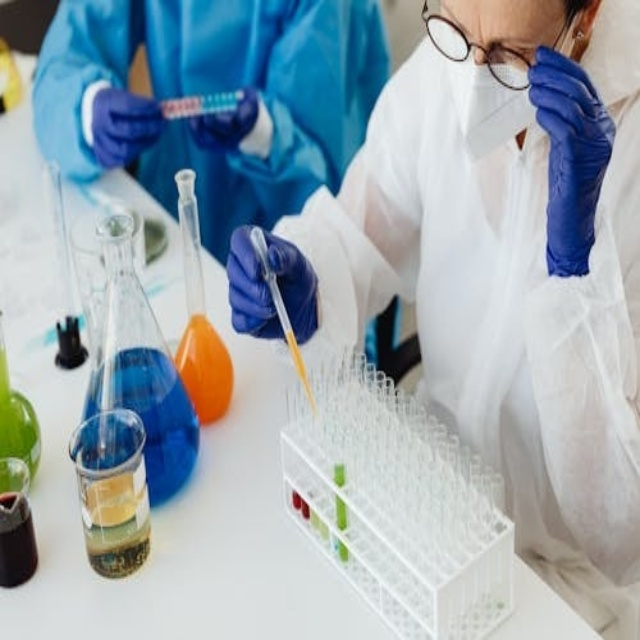Gafas: (422, 0, 569, 90)
Guantes: (526, 45, 616, 280), (228, 224, 319, 344), (88, 85, 164, 171), (188, 87, 263, 153)
Mascara: (427, 23, 541, 163)
